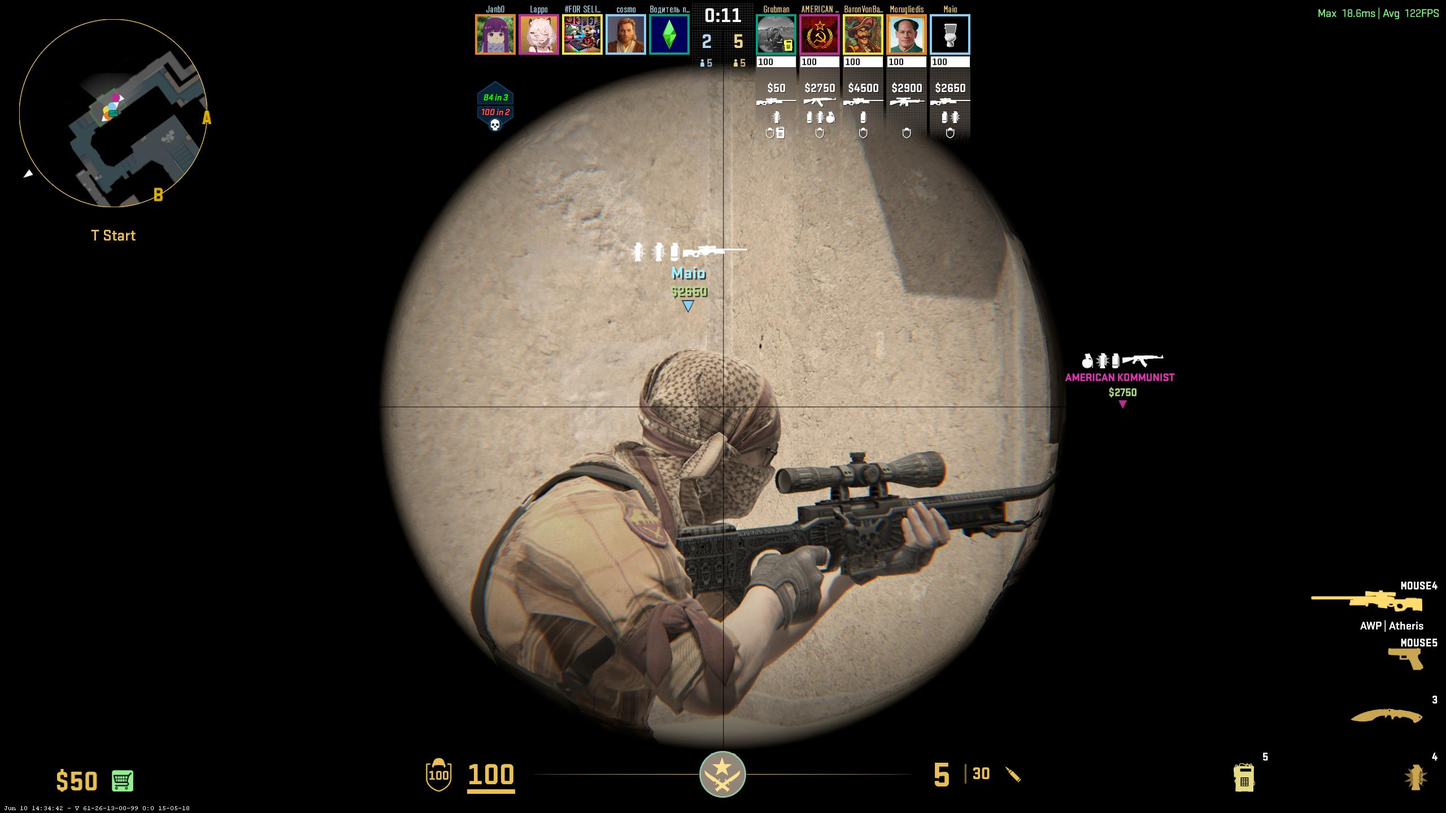Terrorist: (473, 346, 848, 729)
